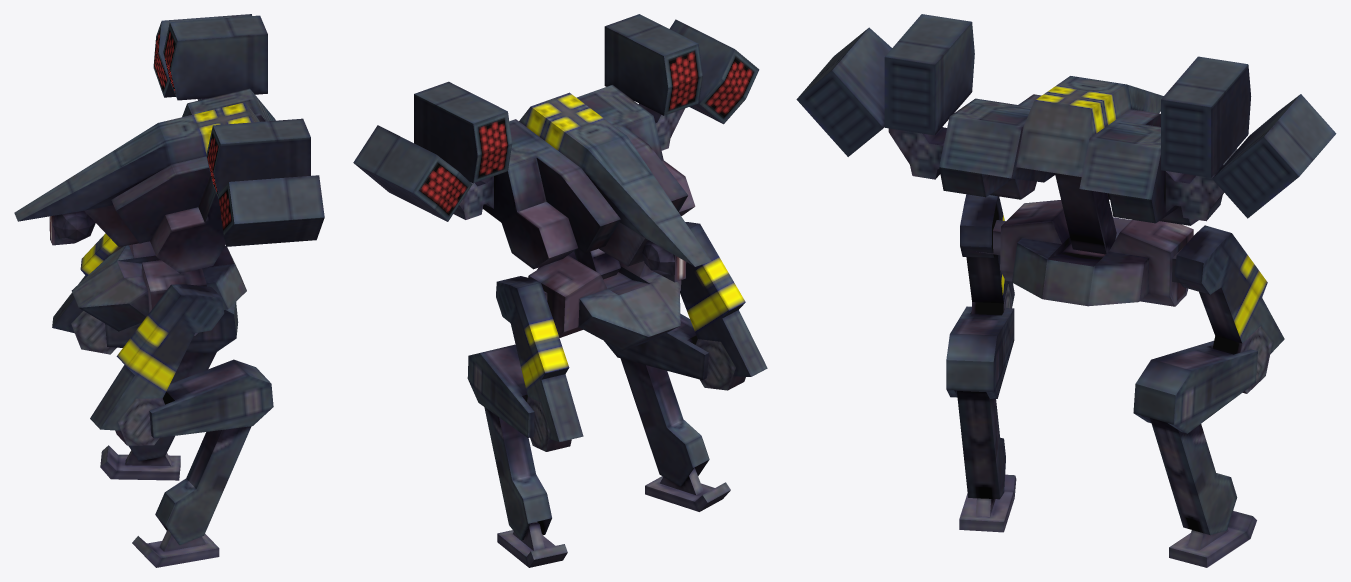
File: DGZZ_enemy-rd06_1934b66a.glb
3 renders of one model, left to right at view 1: azimuth 30°, elevation 25°; view 2: azimuth 150°, elevation 25°; view 3: azimuth 270°, elevation 25°, orthographic. The views are drawn at different scales.
Visible parts, largest first — view 1: rd06; view 2: rd06; view 3: rd06.
Part boxes in pixels (left/top/right/bottom): rd06: left=14, top=14, right=324, bottom=567; rd06: left=353, top=14, right=767, bottom=567; rd06: left=796, top=14, right=1336, bottom=567.
Size of the model in its own units: 0.8976 by 1.25 by 1.21.
Materials: 1 (1 with a texture image).
